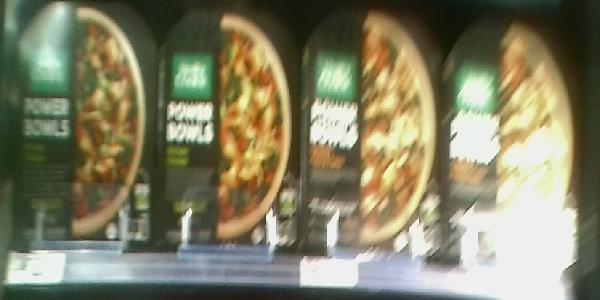pizza1: (3, 1, 155, 244), (299, 5, 439, 259), (153, 7, 301, 244), (442, 11, 570, 258)
